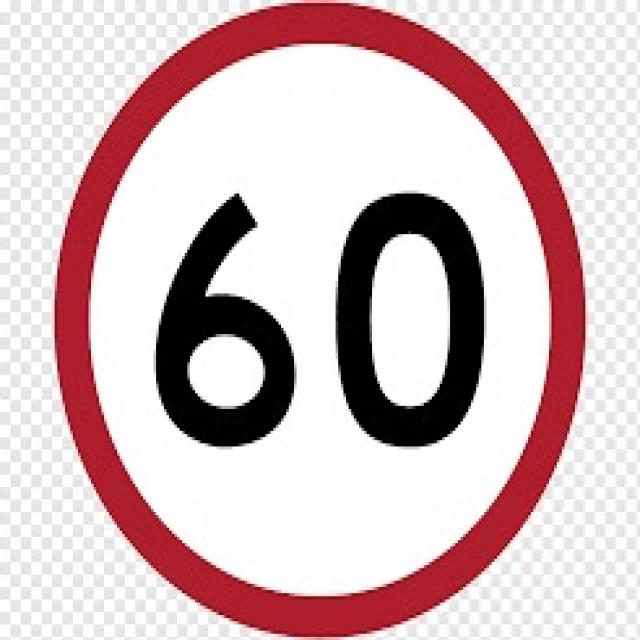speed_limit_60: (50, 0, 598, 640)
